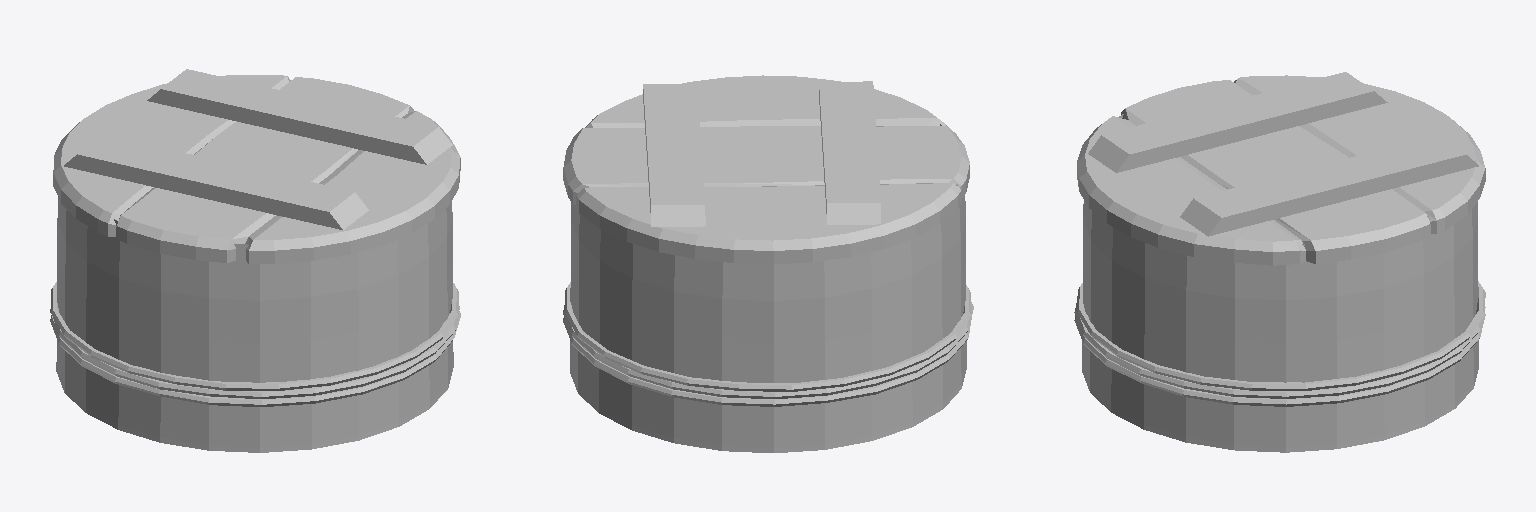
Rendered from barrel_2.obj.
3 renders of one model, left to right at view 1: azimuth 30°, elevation 25°; view 2: azimuth 150°, elevation 25°; view 3: azimuth 270°, elevation 25°, orthographic.
Parts seen in each view (by area): view 1: 01_1; view 2: 01_1; view 3: 01_1.
Part boxes in pixels (x1,y1,x2,y2): 01_1: (50, 69, 460, 452); 01_1: (563, 75, 973, 452); 01_1: (1074, 72, 1485, 452).
Size of the model in its own units: 0.8323 by 0.5038 by 0.8303.